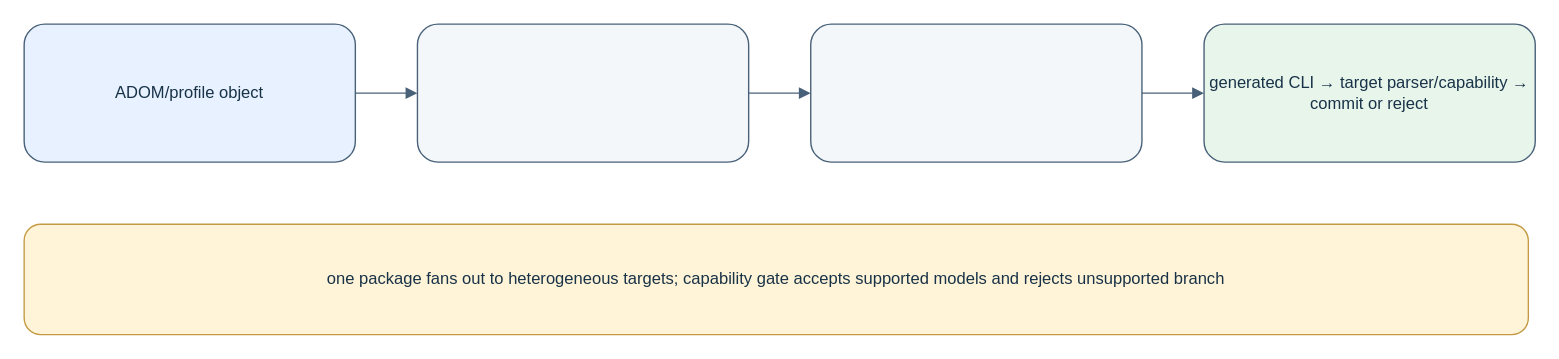
Some shapes in this 1559 by 359 pixel diagram are drawn without their labels. The shapes that lost their labels are listed below. From the top down, each one's centre as x and y in pixels, then its label:
pixel 582 92: target selection
pixel 975 92: install validation/preview
